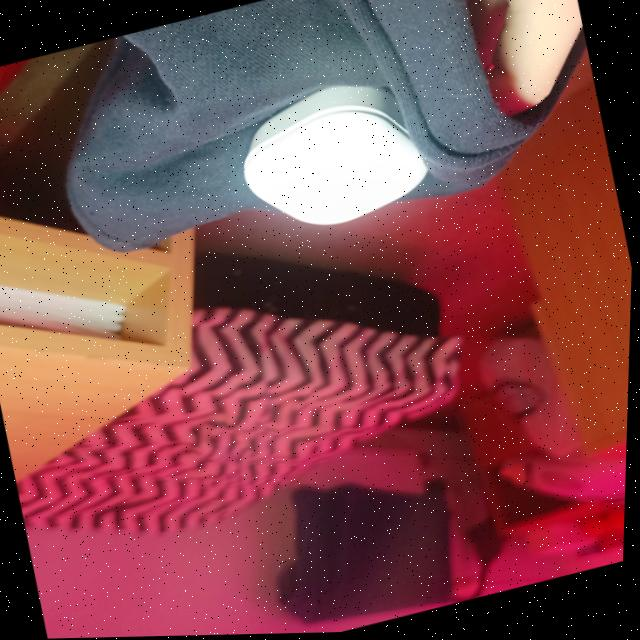headphones: (243, 86, 428, 225)
